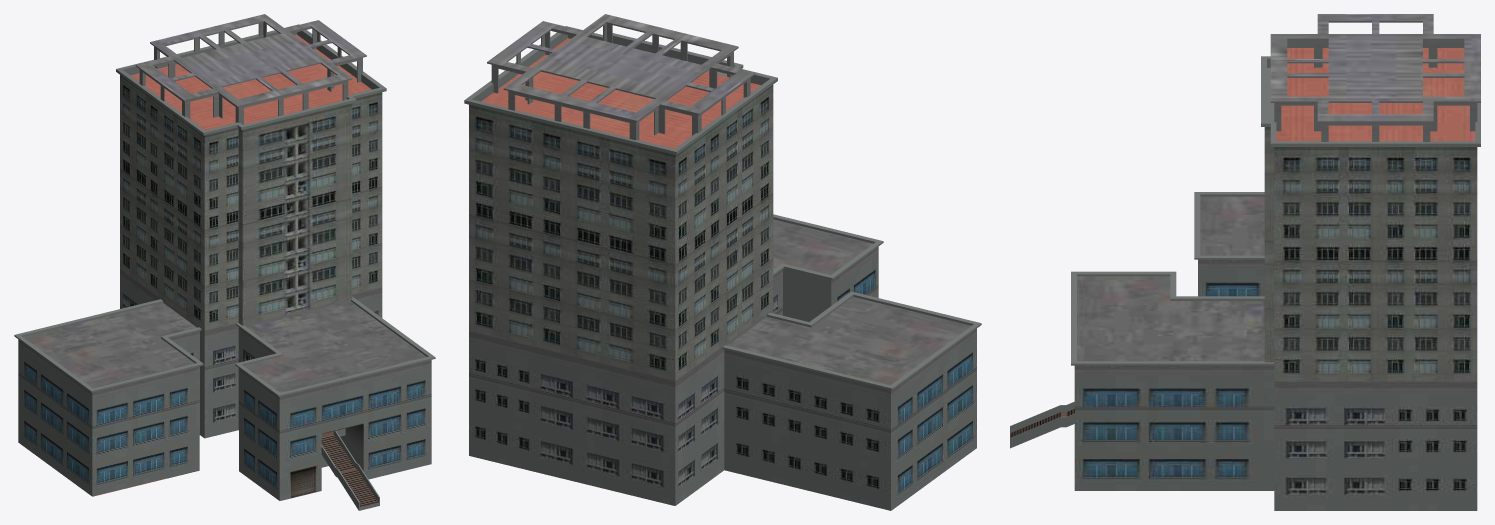
3 renders of one model, left to right at view 1: azimuth 30°, elevation 25°; view 2: azimuth 150°, elevation 25°; view 3: azimuth 270°, elevation 25°, orthographic. The views are drawn at different scales.
Parts seen in each view (by area): view 1: HN831_OxyLaptop; view 2: HN831_OxyLaptop; view 3: HN831_OxyLaptop.
Part boxes in pixels (x1,y1,x2,y2): HN831_OxyLaptop: (14,14,435,510); HN831_OxyLaptop: (464,14,981,510); HN831_OxyLaptop: (1010,14,1480,510).
Size of the model in its own units: 62.5 by 60.01 by 64.92.
Materials: 1 (1 with a texture image).
